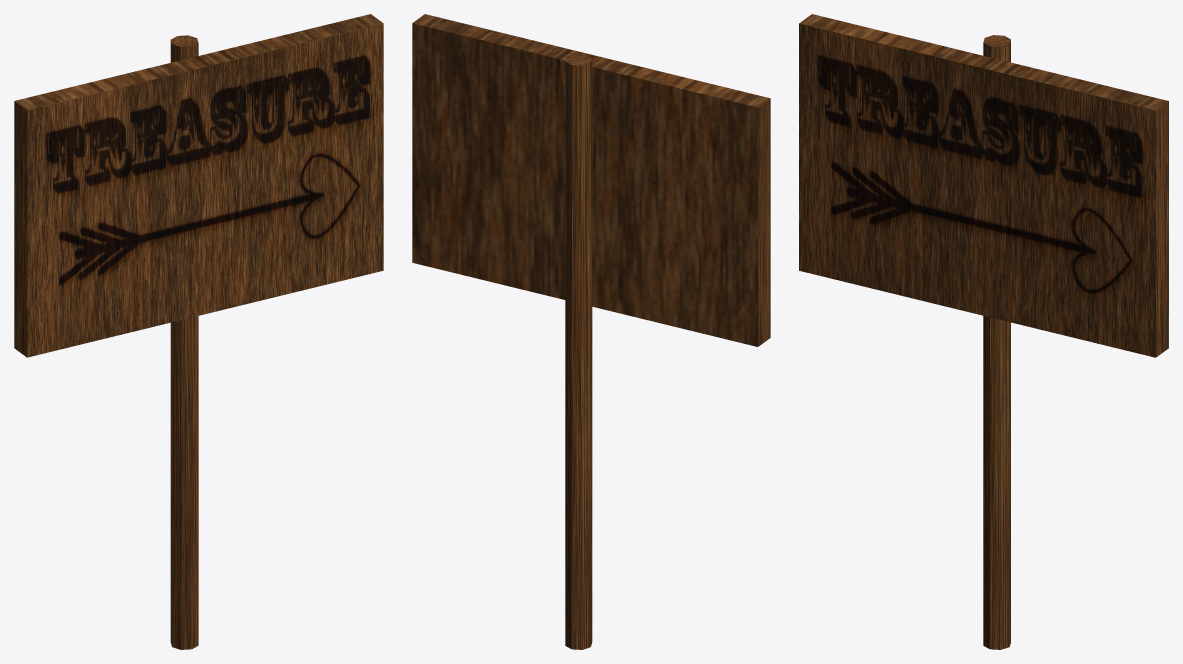
The model's file is Sign.dae.
3 views of the same model, side by side, from view 1: azimuth 30°, elevation 25°; view 2: azimuth 150°, elevation 25°; view 3: azimuth 330°, elevation 25° (orthographic). The views are drawn at different scales.
Visible parts, largest first — view 1: Sign; view 2: Sign; view 3: Sign.
Boxes of the visible parts, left/top/right/bottom form: Sign: left=14, top=14, right=383, bottom=649; Sign: left=412, top=14, right=770, bottom=649; Sign: left=799, top=14, right=1168, bottom=649.
Bounding box in the file's own units: 2 × 0.2663 × 3.23.
2 materials, 2 textured.
